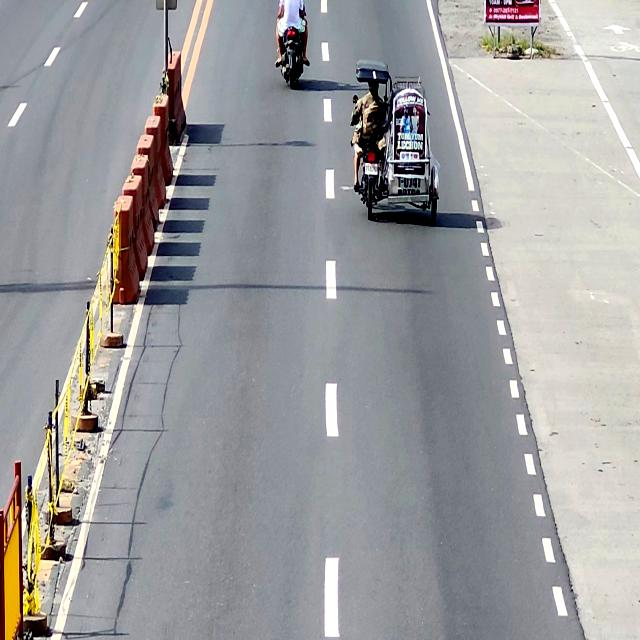License-Plate: (362, 159, 380, 179)
Motorcycle: (277, 16, 306, 89)
Tricycle: (351, 60, 440, 224)
